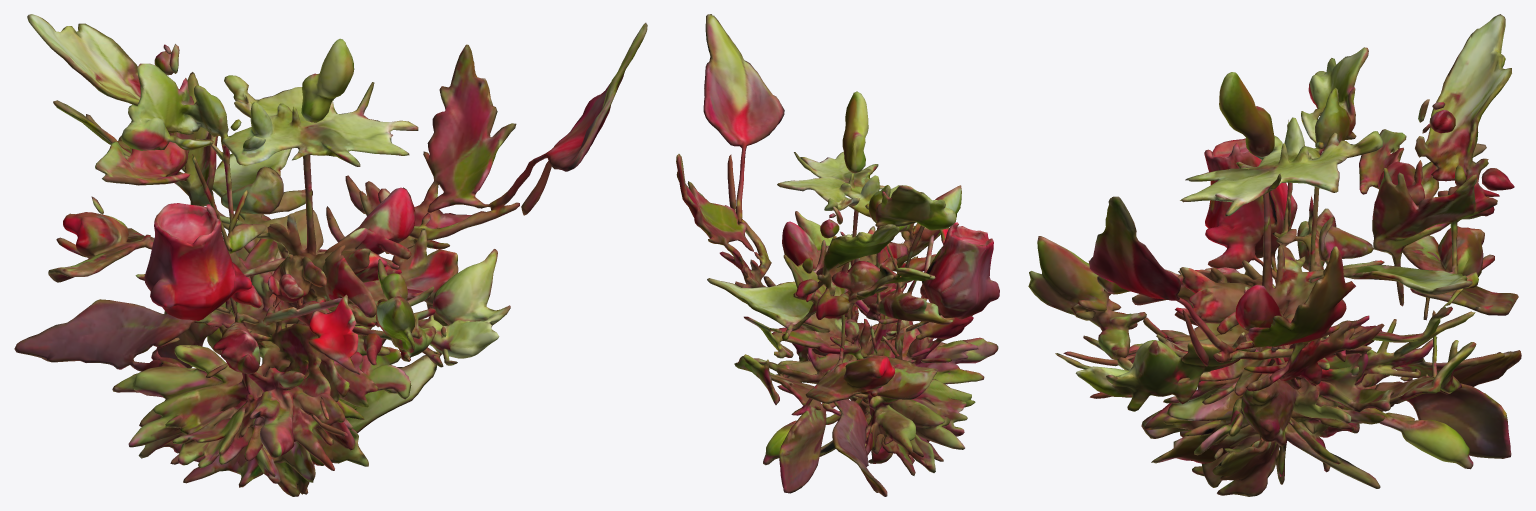
File: herb0066.gltf
3 renders of one model, left to right at view 1: azimuth 30°, elevation 25°; view 2: azimuth 150°, elevation 25°; view 3: azimuth 270°, elevation 25°, orthographic. The views are drawn at different scales.
Visible parts, largest first — view 1: Mesh_0; view 2: Mesh_0; view 3: Mesh_0.
Part boxes in pixels (left/top/right/bottom): Mesh_0: left=14, top=14, right=647, bottom=496; Mesh_0: left=676, top=14, right=999, bottom=496; Mesh_0: left=1028, top=14, right=1521, bottom=496.
Size of the model in its own units: 2.01 by 1.91 by 1.92.
1 material, 1 textured.
